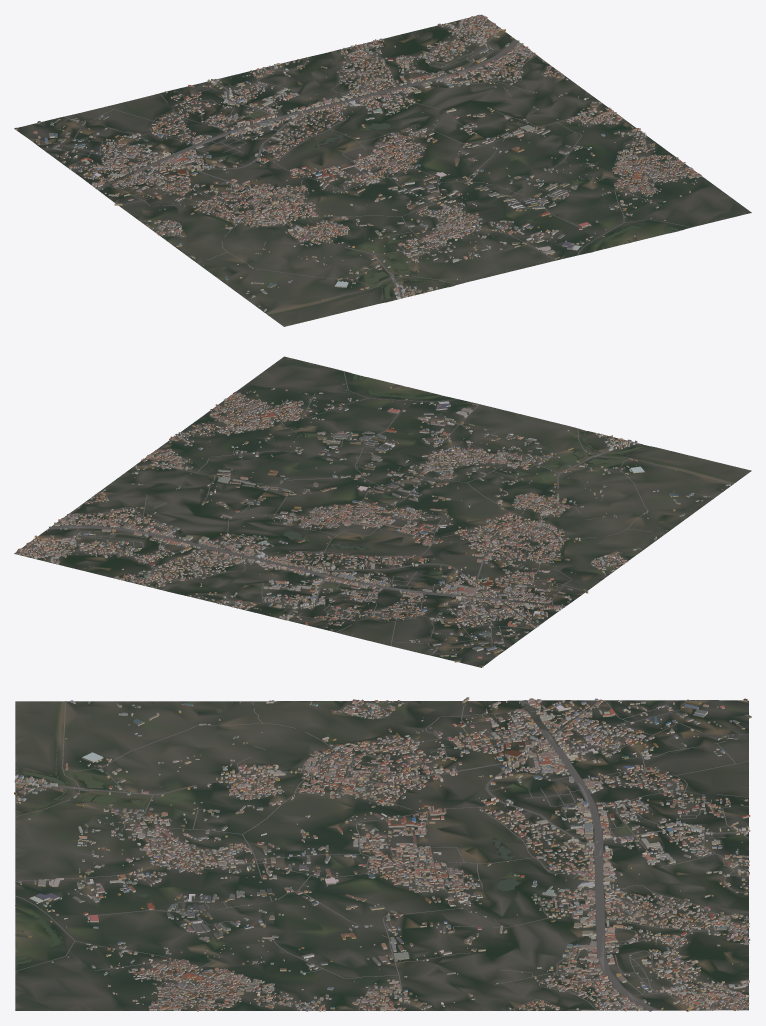
3 renders of one model, top to bottom at view 1: azimuth 30°, elevation 25°; view 2: azimuth 150°, elevation 25°; view 3: azimuth 270°, elevation 25°, orthographic. The views are drawn at different scales.
Visible parts, largest first — view 1: ground, buildings, roads, water; view 2: ground, buildings, roads, water; view 3: ground, buildings, roads, water.
Boxes of the visible parts, bbox=[...] form: ground: bbox=[14, 14, 751, 326]; buildings: bbox=[14, 14, 701, 311]; roads: bbox=[37, 15, 698, 313]; water: bbox=[220, 97, 682, 315]; ground: bbox=[14, 356, 751, 667]; buildings: bbox=[16, 383, 730, 667]; roads: bbox=[15, 371, 733, 655]; water: bbox=[206, 373, 735, 549]; ground: bbox=[15, 700, 748, 1010]; buildings: bbox=[14, 697, 751, 1011]; roads: bbox=[15, 700, 748, 1011]; water: bbox=[15, 701, 520, 965].
Size of the model in its own units: 2830 by 28.33 by 2820.
